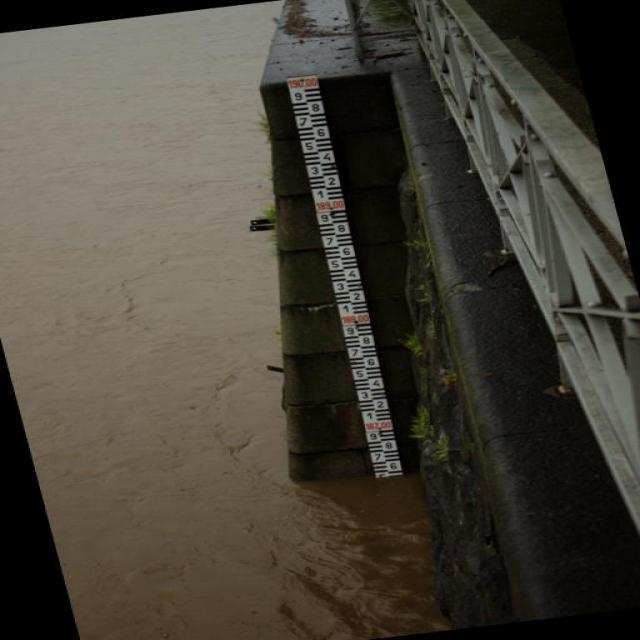flood: (0, 11, 345, 639)
